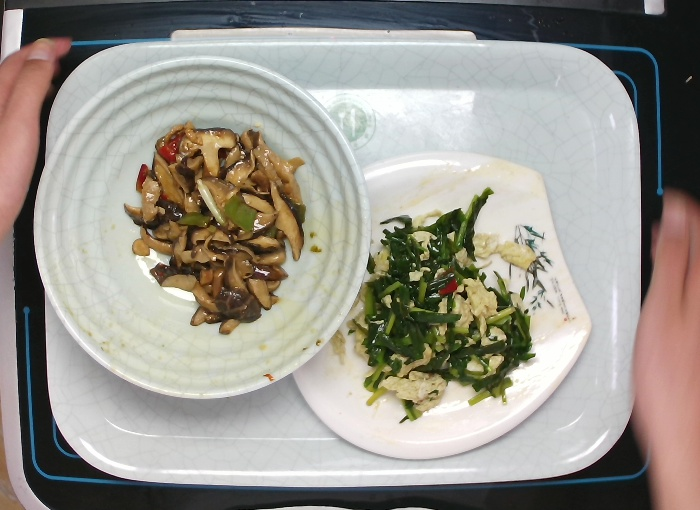JYsf-Da_Tang_Wan: (30, 50, 375, 404)
JYsf-Mian_Pan: (284, 146, 596, 464)
